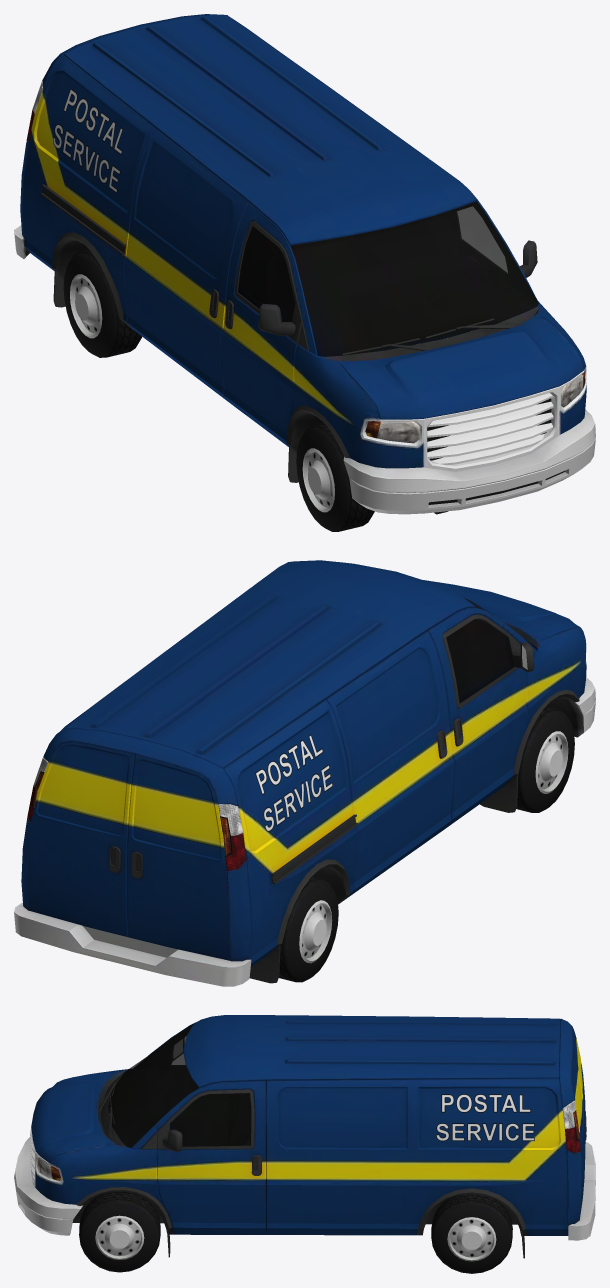
File: postvan.glb
The picture shows the model from 3 angles, top to bottom: view 1: azimuth 30°, elevation 25°; view 2: azimuth 150°, elevation 25°; view 3: azimuth 270°, elevation 25°; orthographic projection. The views are drawn at different scales.
Parts seen in each view (by area): view 1: postvan_postvan_0, postvan_postvan_glass_0, postvan_postvan_decal_0, postvan_optics_tex_0; view 2: postvan_postvan_0, postvan_postvan_glass_0, postvan_postvan_decal_0, postvan_optics_tex_0; view 3: postvan_postvan_0, postvan_postvan_glass_0, postvan_postvan_decal_0, postvan_optics_tex_0.
Boxes of the visible parts, bbox=[...] form: postvan_postvan_0: bbox=[14, 14, 595, 531]; postvan_postvan_glass_0: bbox=[238, 201, 538, 356]; postvan_postvan_decal_0: bbox=[53, 88, 122, 193]; postvan_optics_tex_0: bbox=[26, 81, 585, 443]; postvan_postvan_0: bbox=[14, 560, 595, 986]; postvan_postvan_glass_0: bbox=[446, 597, 537, 702]; postvan_postvan_decal_0: bbox=[255, 734, 332, 831]; postvan_optics_tex_0: bbox=[27, 758, 246, 871]; postvan_postvan_0: bbox=[14, 1015, 595, 1273]; postvan_postvan_glass_0: bbox=[108, 1023, 251, 1148]; postvan_postvan_decal_0: bbox=[436, 1094, 534, 1141]; postvan_optics_tex_0: bbox=[37, 1100, 580, 1180].
Bounding box in the file's own units: 2.19 × 1.98 × 5.35.
4 materials, 4 textured.
